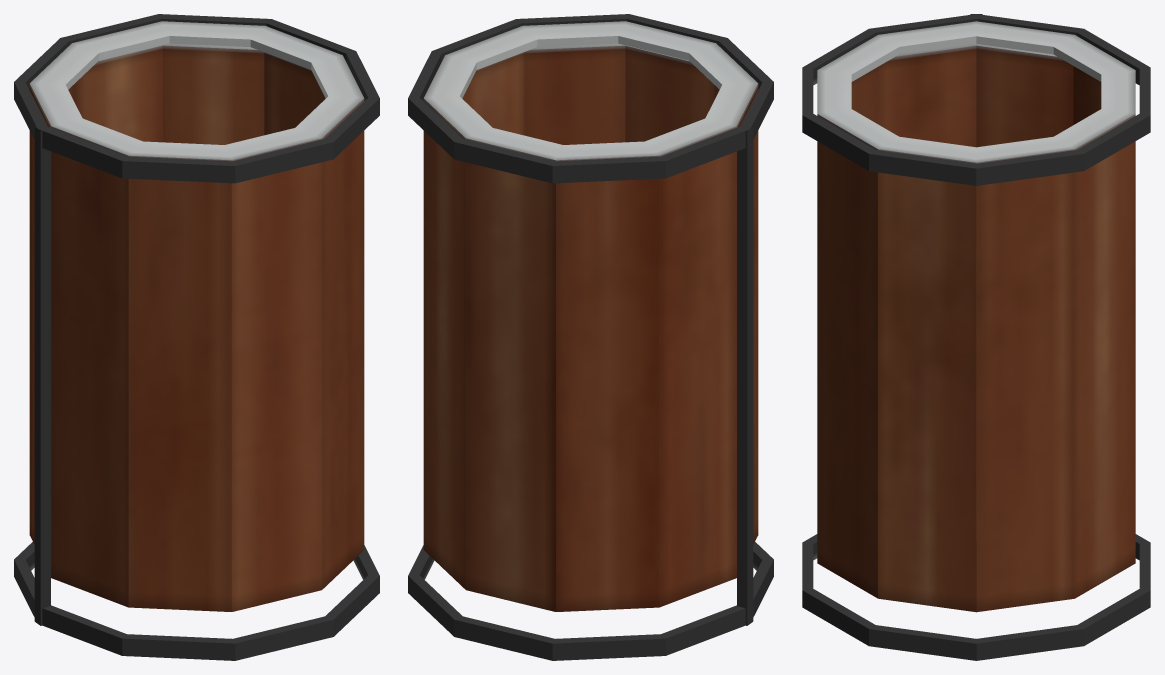
The model's file is Bin_01.glb.
The picture shows the model from 3 angles, left to right: view 1: azimuth 30°, elevation 25°; view 2: azimuth 150°, elevation 25°; view 3: azimuth 270°, elevation 25°; orthographic projection.
Visible parts, largest first — view 1: Bin_01; view 2: Bin_01; view 3: Bin_01.
Boxes of the visible parts, x1,y1,x2,y2 form: Bin_01: (14,14,379,660); Bin_01: (408,14,773,660); Bin_01: (802,14,1150,660).
Bounding box in the file's own units: 0.75 × 1.11 × 0.7133.
1 material, 1 textured.
